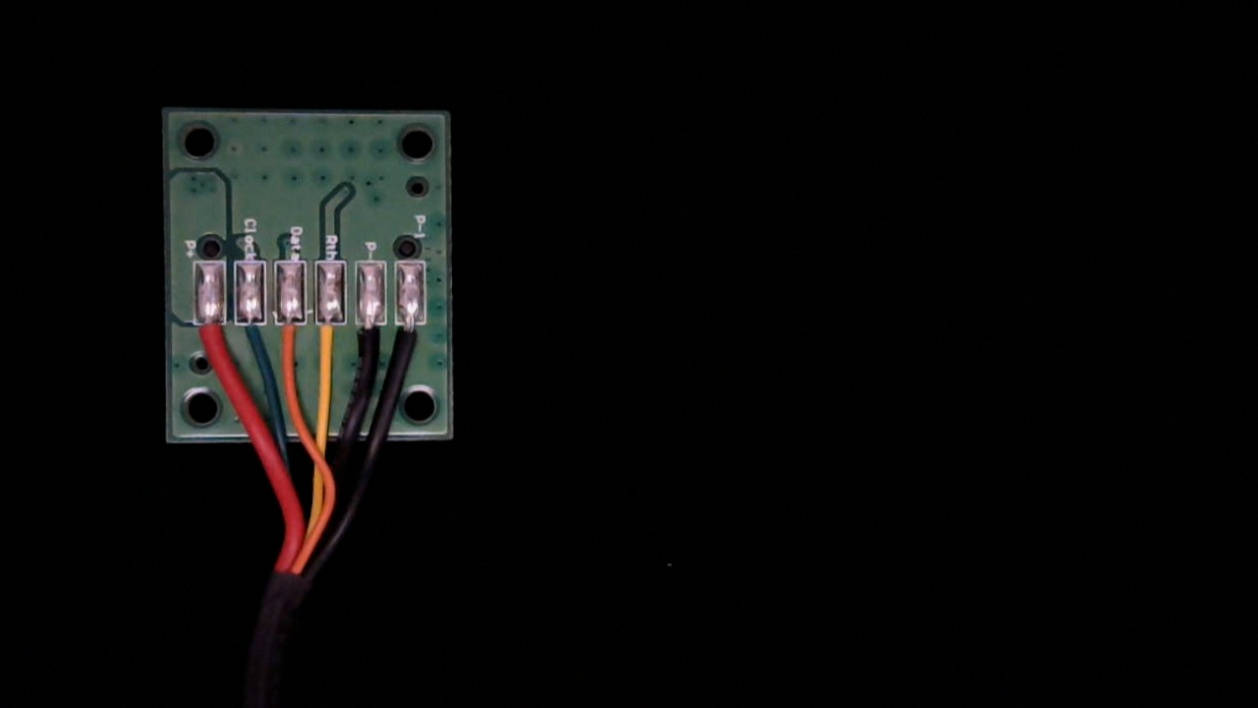Black: (355, 309, 384, 371)
Black1: (395, 310, 427, 368)
Green: (235, 310, 270, 362)
Orange: (277, 309, 308, 366)
Red: (193, 311, 228, 367)
Yellow: (314, 310, 347, 372)
